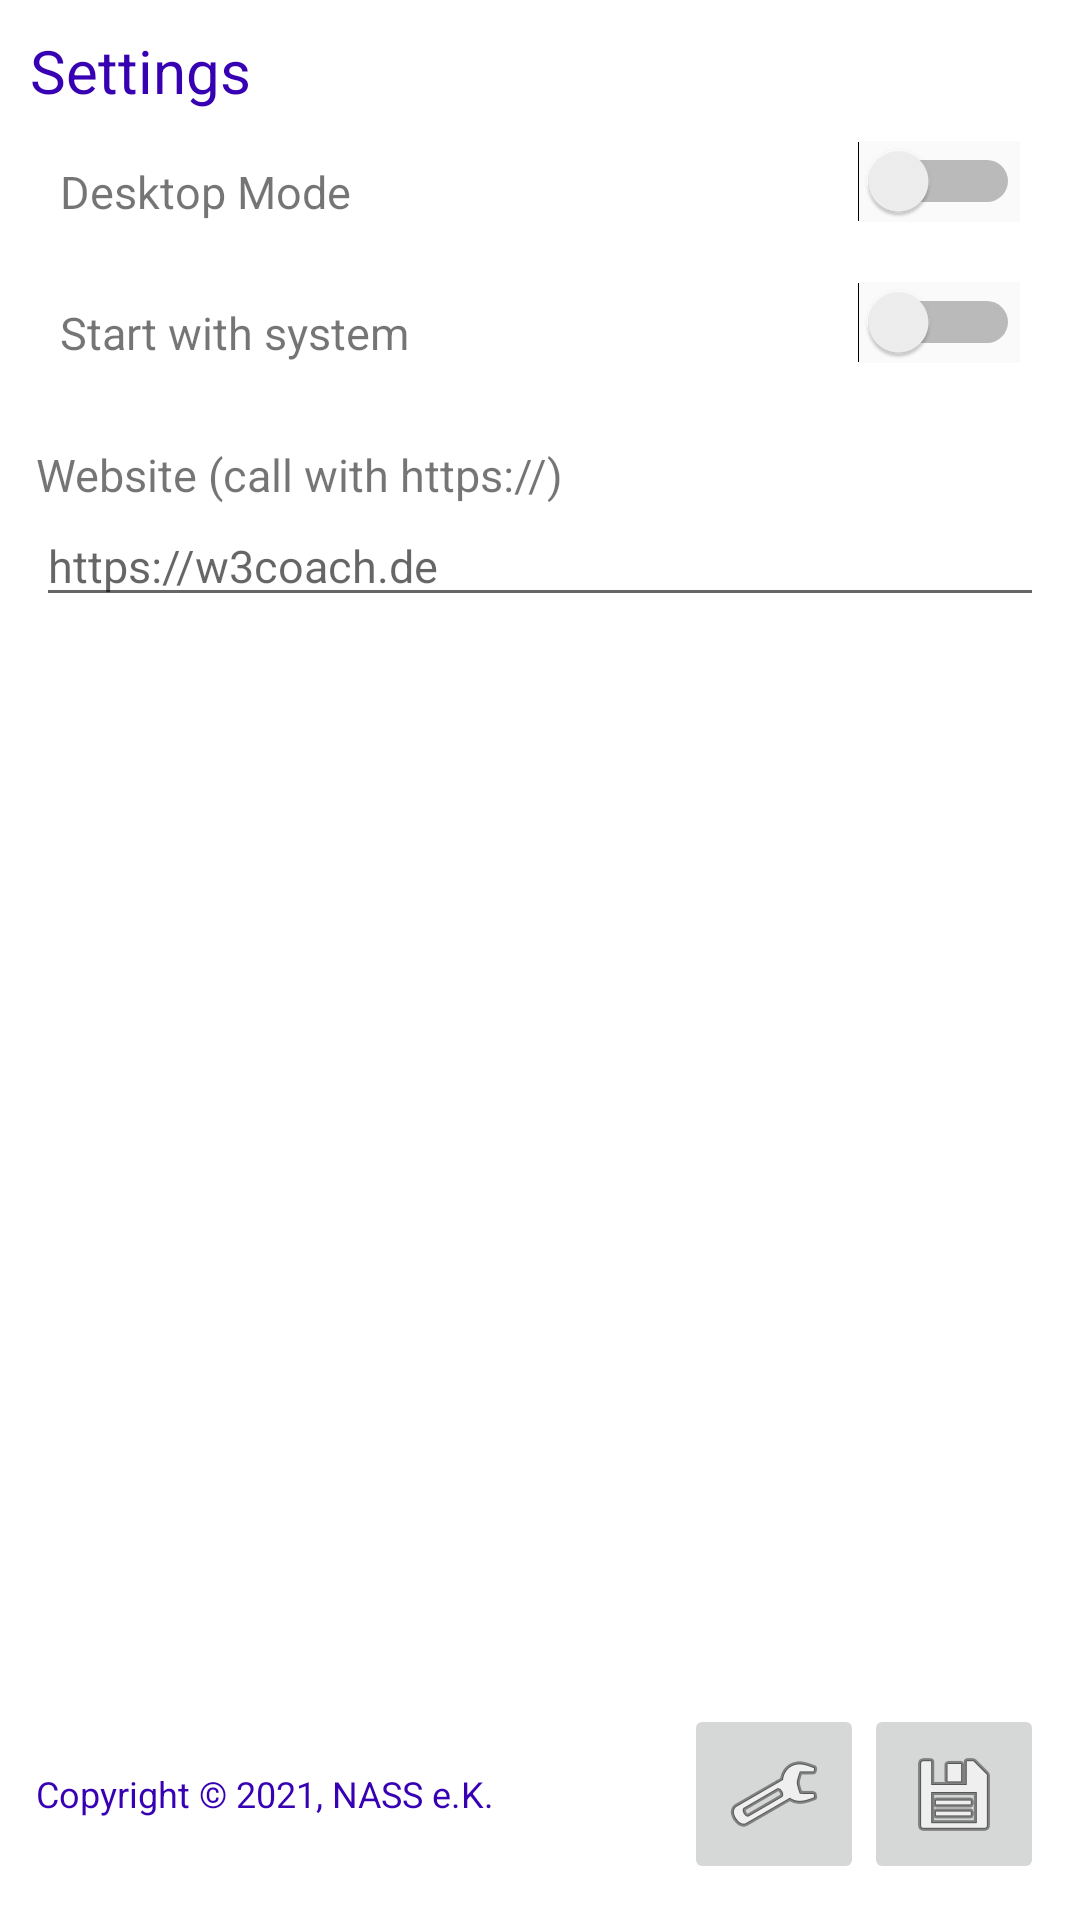

Named icons in this screenshot (1080w x 1920h) and their centers, [x,y]:
Settings save button: [954,1794]
System settings button: [774,1794]
